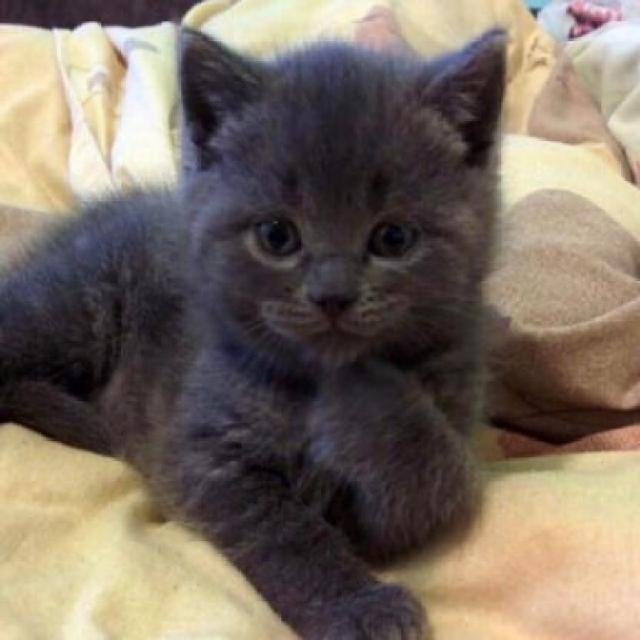cat: (152, 17, 508, 532)
